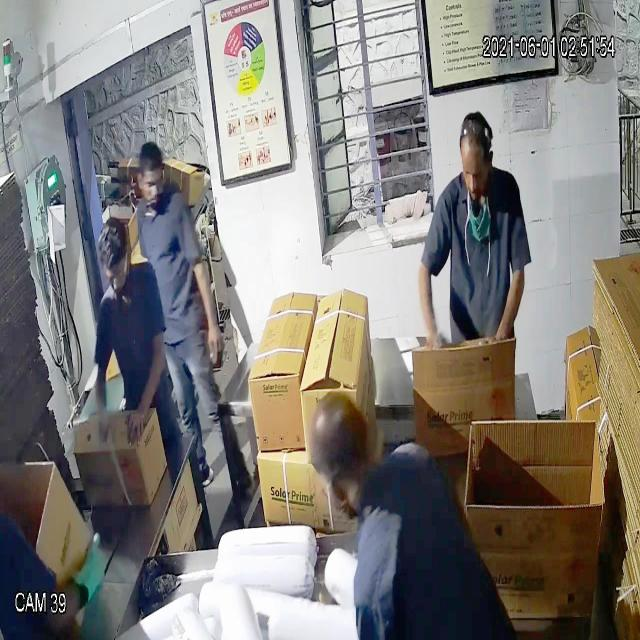glasses: (102, 257, 132, 290)
no-glass: (460, 153, 494, 187)
